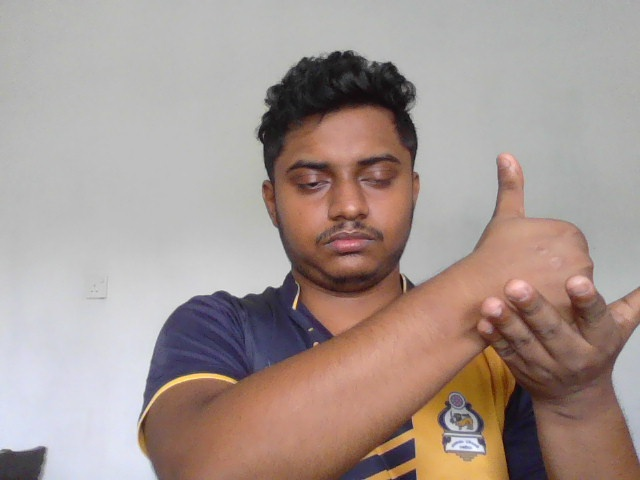Help: (474, 153, 630, 394)
